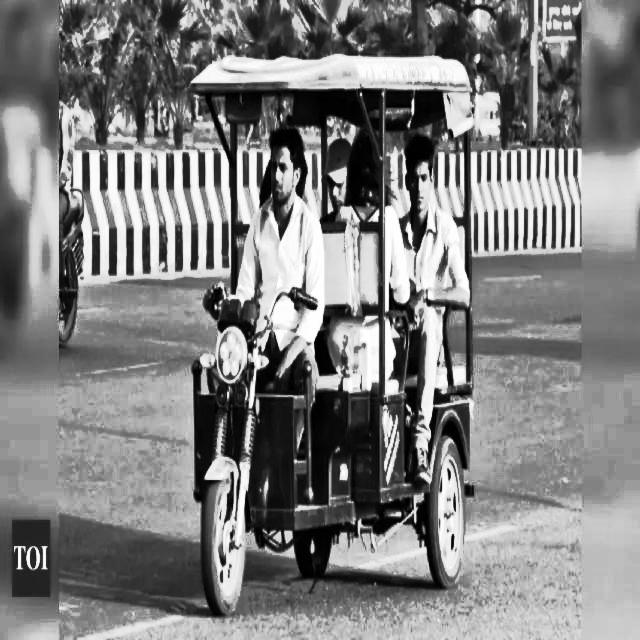Toto: (186, 44, 471, 614)
